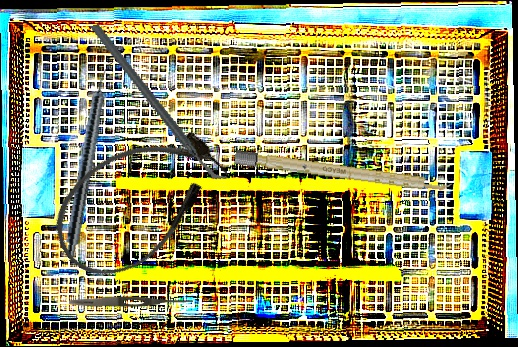Cannula: (33, 105, 244, 298)
Chopper: (89, 1, 229, 203)
Dressing Forceps: (68, 294, 194, 309)
Handpiece: (62, 60, 115, 260)
Scalpel Handle: (234, 149, 453, 195)
